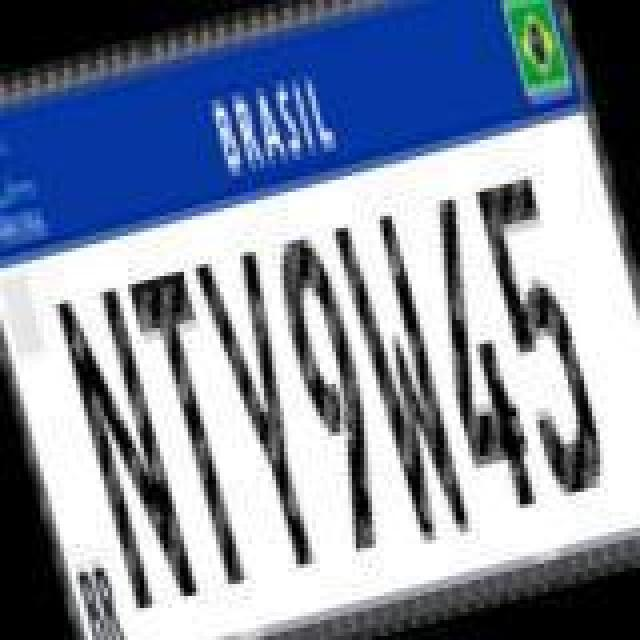4: (400, 184, 544, 520)
5: (470, 166, 618, 506)
9: (264, 220, 408, 556)
N: (52, 278, 204, 618)
T: (122, 262, 270, 594)
W: (324, 202, 476, 550)
Y: (190, 242, 338, 574)
